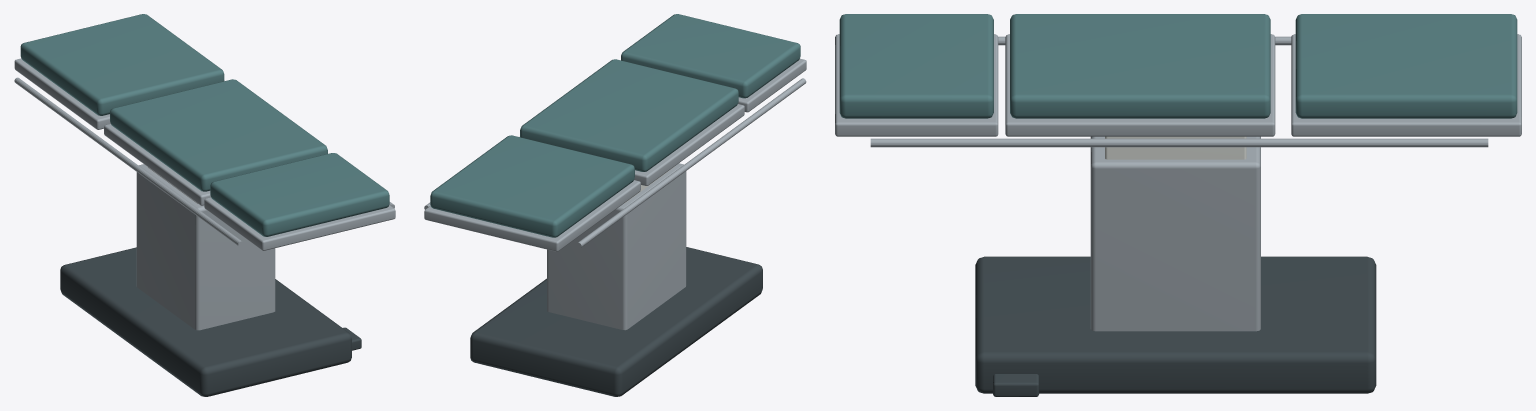
The model's file is operating_table.fbx.
3 views of the same model, side by side, from view 1: azimuth 30°, elevation 25°; view 2: azimuth 150°, elevation 25°; view 3: azimuth 270°, elevation 25° (orthographic). The views are drawn at different scales.
Parts seen in each view (by area): view 1: EQ_operating_table_M_Upholstery, EQ_operating_table_M_SteelBrushed, EQ_operating_table_M_PlasticGrey; view 2: EQ_operating_table_M_Upholstery, EQ_operating_table_M_SteelBrushed, EQ_operating_table_M_PlasticGrey; view 3: EQ_operating_table_M_Upholstery, EQ_operating_table_M_SteelBrushed, EQ_operating_table_M_PlasticGrey, EQ_operating_table_M_Ivory.
Boxes of the visible parts, x1,y1,x2,y2 form: EQ_operating_table_M_Upholstery: (20,14,389,236); EQ_operating_table_M_SteelBrushed: (14,58,395,330); EQ_operating_table_M_PlasticGrey: (60,247,361,396); EQ_operating_table_M_Upholstery: (430,14,800,237); EQ_operating_table_M_SteelBrushed: (424,58,806,330); EQ_operating_table_M_PlasticGrey: (470,247,762,396); EQ_operating_table_M_Upholstery: (839,14,1517,118); EQ_operating_table_M_SteelBrushed: (835,34,1521,331); EQ_operating_table_M_PlasticGrey: (975,256,1376,396); EQ_operating_table_M_Ivory: (1105,136,1246,159).
Size of the model in its own units: 0.757 by 0.9075 by 1.94.
